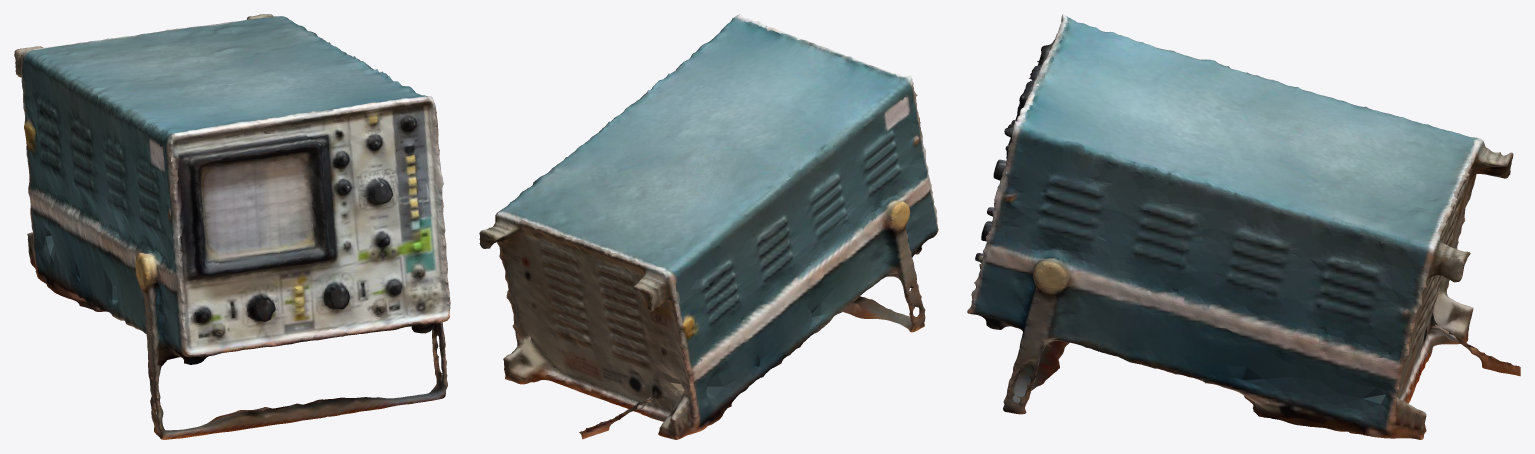
The model's file is ΑΕ141_glb_optimized.glb.
3 renders of one model, left to right at view 1: azimuth 30°, elevation 25°; view 2: azimuth 150°, elevation 25°; view 3: azimuth 270°, elevation 25°, orthographic. The views are drawn at different scales.
Parts seen in each view (by area): view 1: mesh; view 2: mesh; view 3: mesh.
Boxes of the visible parts, x1=… form: mesh: x1=14, y1=14, x2=450, y2=439; mesh: x1=479, y1=14, x2=938, y2=439; mesh: x1=967, y1=14, x2=1520, y2=439.
Size of the model in its own units: 0.329 by 0.289 by 0.5065.
1 material, 1 textured.
